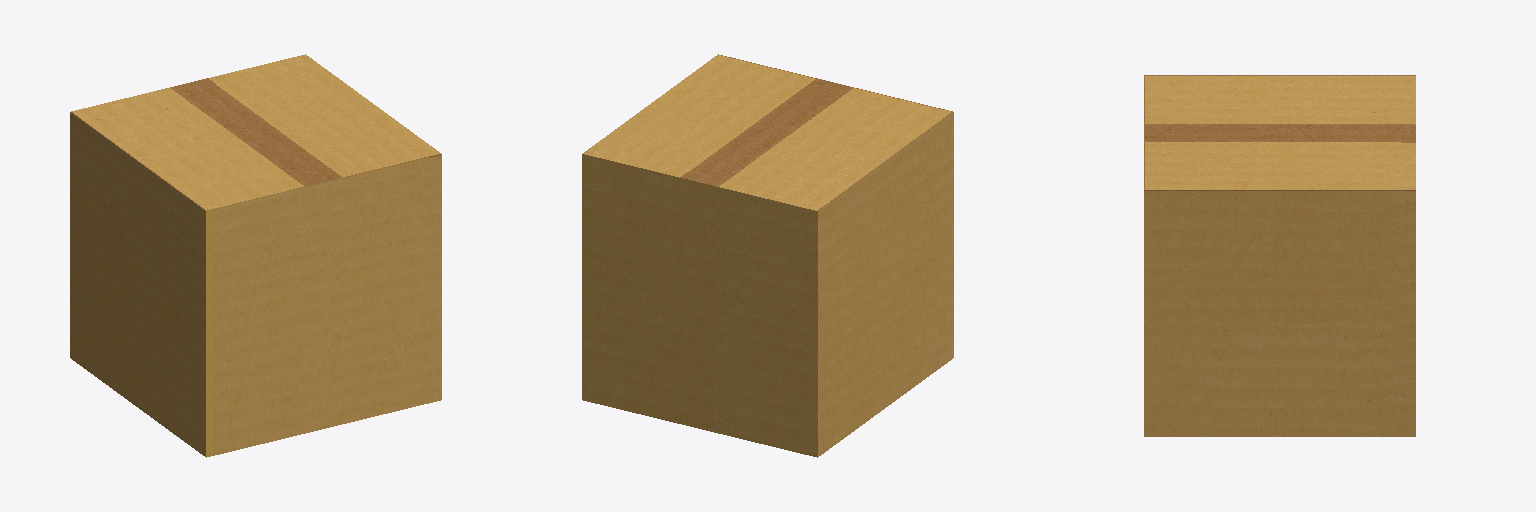
The picture shows the model from 3 angles: view 1: azimuth 30°, elevation 25°; view 2: azimuth 150°, elevation 25°; view 3: azimuth 270°, elevation 25°; orthographic projection.
Visible parts, largest first — view 1: Cube.001_Cube.038; view 2: Cube.001_Cube.038; view 3: Cube.001_Cube.038.
Boxes of the visible parts, x1=… form: Cube.001_Cube.038: x1=70, y1=54, x2=441, y2=457; Cube.001_Cube.038: x1=582, y1=54, x2=953, y2=457; Cube.001_Cube.038: x1=1144, y1=75, x2=1415, y2=436.
Size of the model in its own units: 6.6 by 6.6 by 6.6.
1 materials, 1 textured.